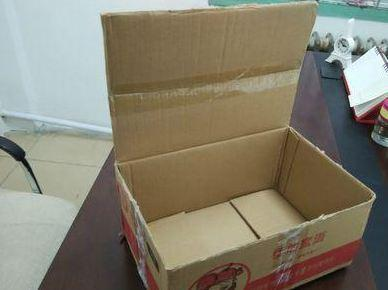cardboard: (102, 2, 350, 289), (0, 111, 111, 289)
